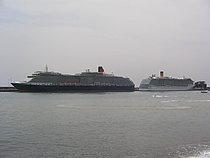Ship: (12, 70, 137, 95), (141, 73, 198, 94)
